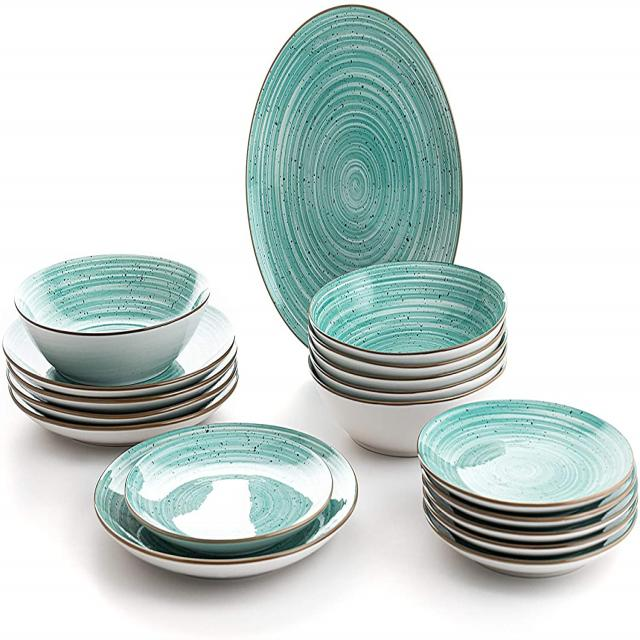non-organic waste: (1, 182, 284, 427), (53, 408, 374, 604), (415, 363, 640, 574)
